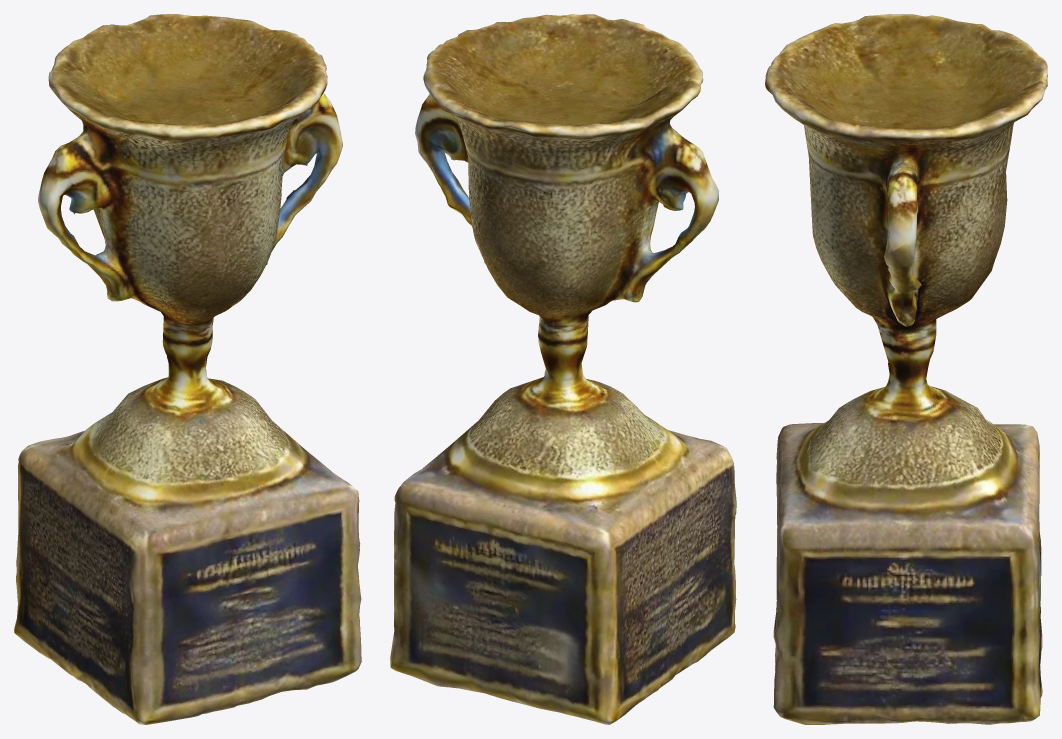
File: gold_trophy.glb
The picture shows the model from 3 angles, left to right: view 1: azimuth 30°, elevation 25°; view 2: azimuth 150°, elevation 25°; view 3: azimuth 270°, elevation 25°; orthographic projection. The views are drawn at different scales.
Visible parts, largest first — view 1: model_0; view 2: model_0; view 3: model_0.
Boxes of the visible parts, x1,y1,x2,y2 form: model_0: [14, 14, 361, 724]; model_0: [390, 14, 736, 724]; model_0: [765, 14, 1047, 724].
Bounding box in the file's own units: 0.8762 × 1.67 × 0.7033.
Materials: 1 (1 with a texture image).
